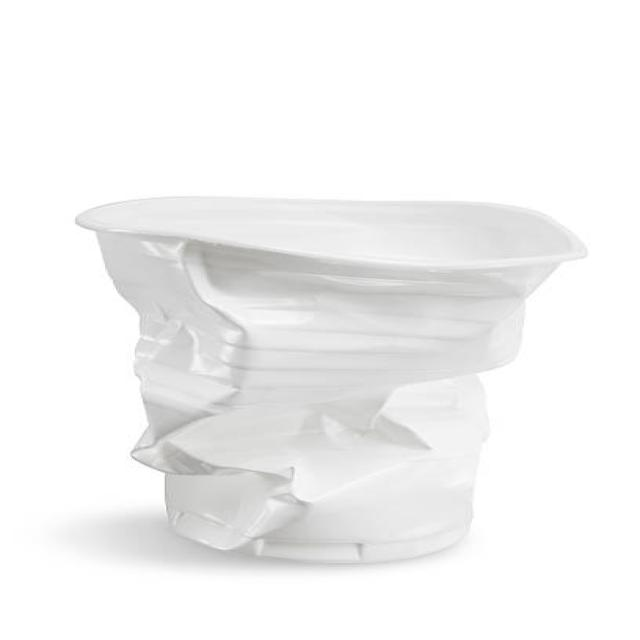plastic: (77, 198, 599, 568)
